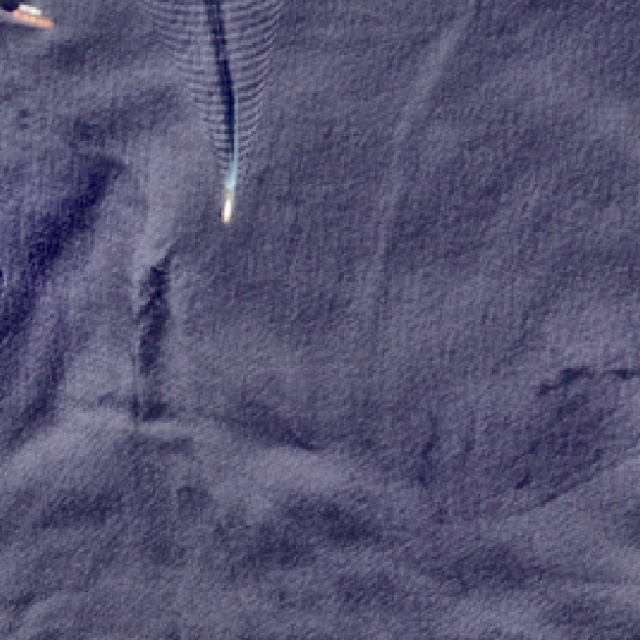wake: (175, 58, 283, 225)
